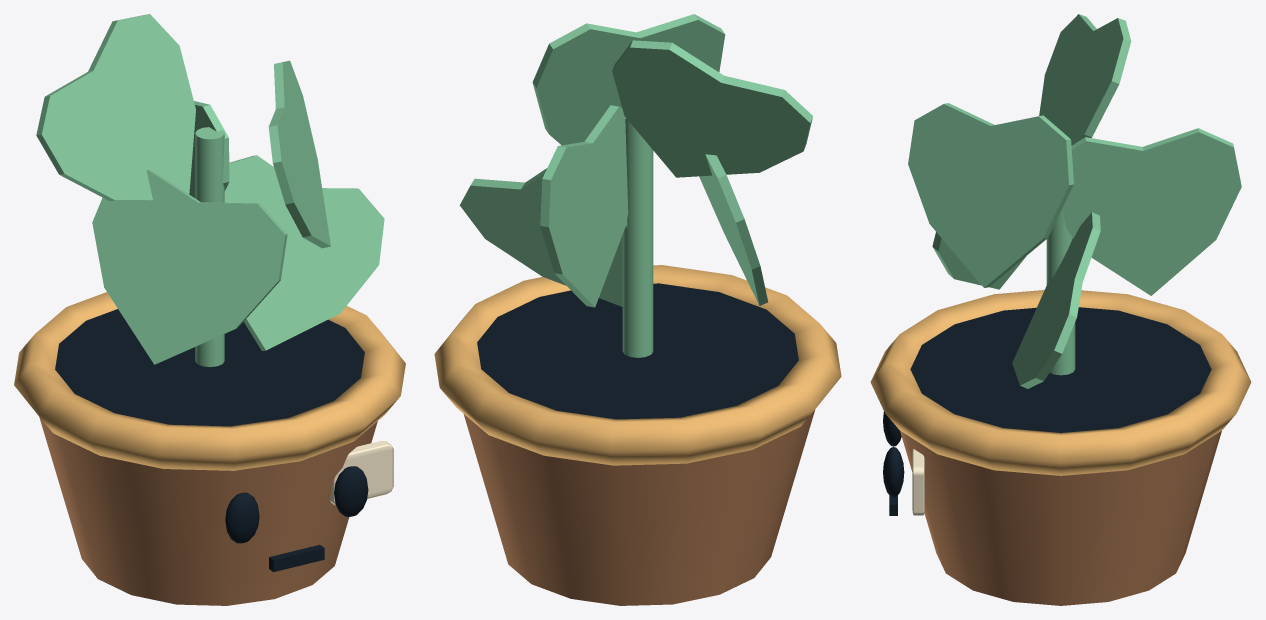
Rendered from kamote.glb.
3 views of the same model, side by side, from view 1: azimuth 30°, elevation 25°; view 2: azimuth 150°, elevation 25°; view 3: azimuth 270°, elevation 25° (orthographic). The views are drawn at different scales.
Parts seen in each view (by area): view 1: heart-leaf (×5), pot, pot-lip, soil, stem, plant-label, eye-right, eye-left, smile; view 2: heart-leaf (×5), pot, soil, pot-lip, stem; view 3: heart-leaf (×5), pot, soil, pot-lip, stem, eye-right, plant-label.
Part boxes in pixels (x1=…): heart-leaf (×5): x1=36, y1=14, x2=384, y2=364; pot: x1=39, y1=417, x2=377, y2=605; pot-lip: x1=14, y1=292, x2=405, y2=470; soil: x1=55, y1=309, x2=364, y2=426; stem: x1=195, y1=127, x2=224, y2=366; plant-label: x1=330, y1=440, x2=393, y2=505; eye-right: x1=334, y1=466, x2=368, y2=516; eye-left: x1=225, y1=492, x2=259, y2=543; smile: x1=269, y1=544, x2=324, y2=572; heart-leaf (×5): x1=459, y1=14, x2=812, y2=307; pot: x1=463, y1=410, x2=814, y2=605; soil: x1=477, y1=283, x2=798, y2=419; pot-lip: x1=434, y1=265, x2=841, y2=465; stem: x1=622, y1=118, x2=653, y2=357; heart-leaf (×5): x1=908, y1=14, x2=1241, y2=388; pot: x1=900, y1=431, x2=1221, y2=605; soil: x1=910, y1=307, x2=1211, y2=432; pot-lip: x1=870, y1=290, x2=1251, y2=475; stem: x1=1046, y1=209, x2=1075, y2=375; eye-right: x1=883, y1=447, x2=904, y2=497; plant-label: x1=912, y1=449, x2=924, y2=515.
Size of the model in its own units: 1.07 by 1.57 by 1.07.
